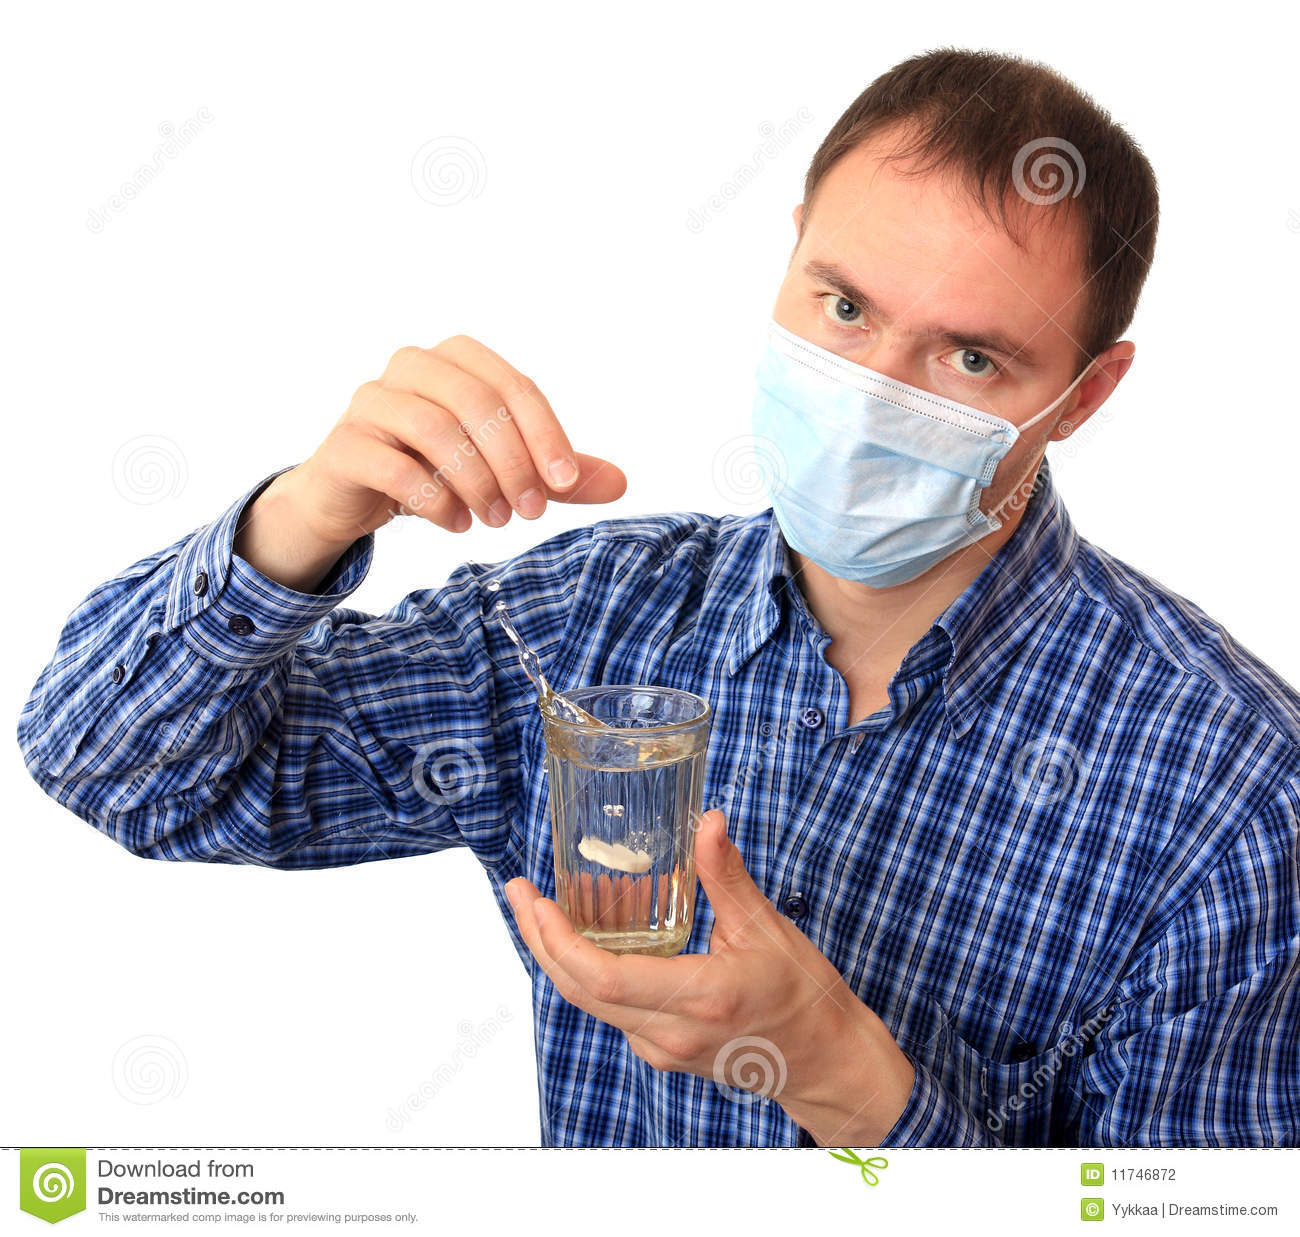mask: (741, 334, 1020, 596)
